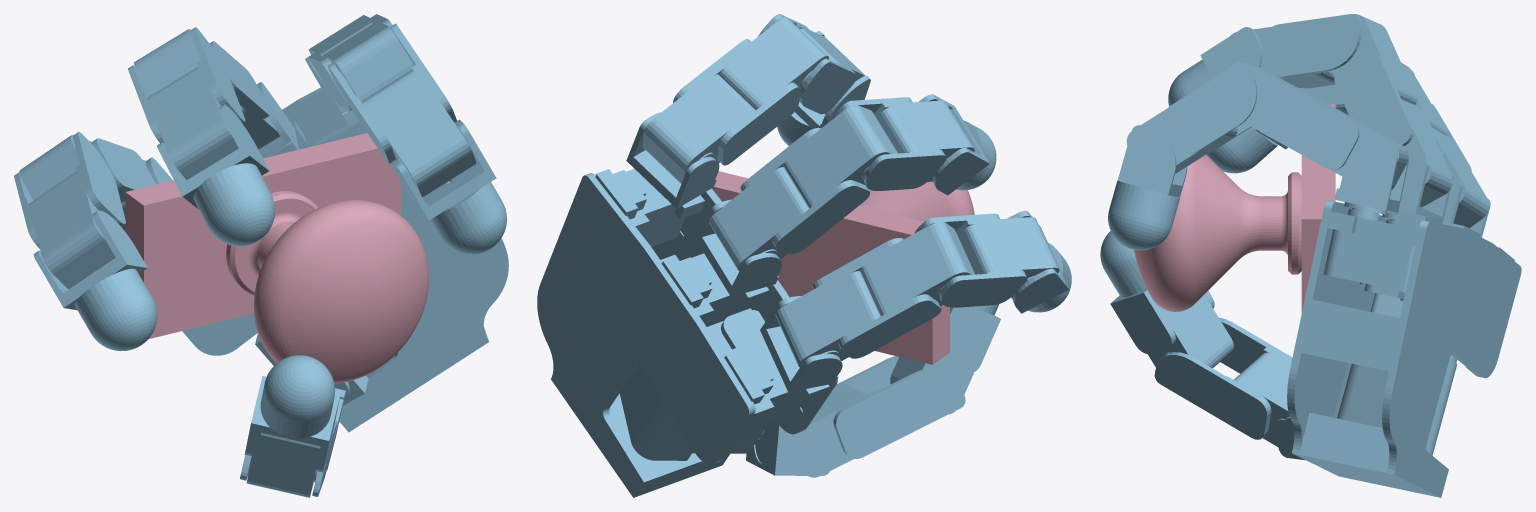
3 views of the same model, side by side, from view 1: azimuth 30°, elevation 25°; view 2: azimuth 150°, elevation 25°; view 3: azimuth 270°, elevation 25° (orthographic). The views are drawn at different scales.
Visible parts, largest first — view 1: world, door_knob.stl; view 2: world, door_knob.stl; view 3: world, door_knob.stl.
Boxes of the visible parts, x1=… form: world: x1=14, y1=14, x2=508, y2=497; door_knob.stl: x1=125, y1=133, x2=428, y2=383; world: x1=537, y1=14, x2=1071, y2=497; door_knob.stl: x1=712, y1=171, x2=974, y2=364; world: x1=1100, y1=14, x2=1521, y2=497; door_knob.stl: x1=1134, y1=104, x2=1335, y2=312.
Size of the model in its own units: 0.1976 by 0.1681 by 0.1547.
